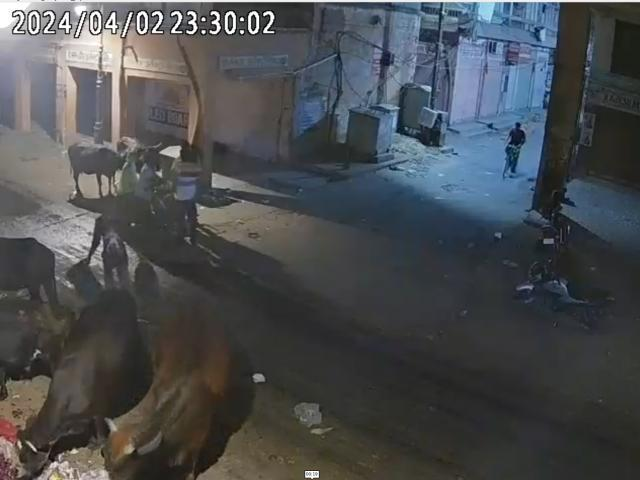bicycle-rider: (502, 122, 526, 178)
cattle: (101, 296, 234, 478), (15, 286, 138, 476), (65, 141, 124, 196)
motorbike: (508, 253, 616, 330), (534, 200, 572, 260)
scooty-rider: (108, 150, 175, 236)
